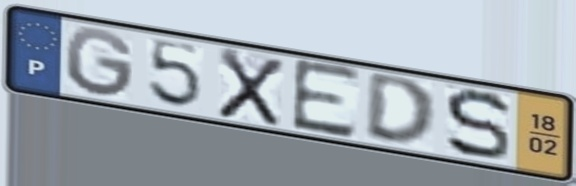5: (143, 36, 205, 110)
D: (361, 72, 440, 150)
E: (289, 55, 364, 143)
G: (62, 26, 138, 102)
S: (441, 86, 513, 163)
X: (214, 44, 287, 130)
